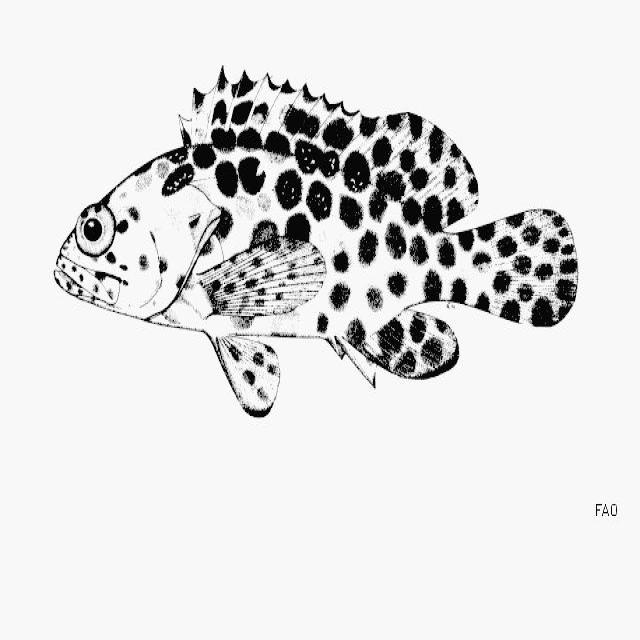ikan: (52, 64, 578, 417)
